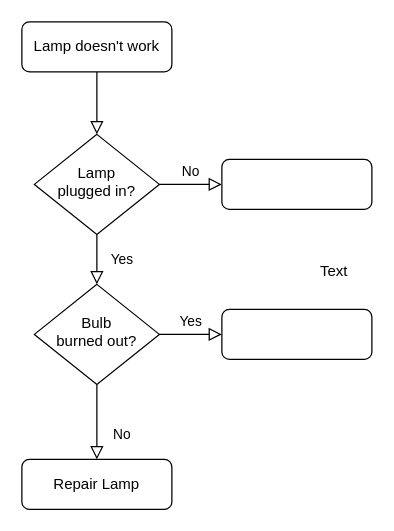
This 394x531 diagram has some shape labels left out. Each missing label, with the box of its shape:
Plug in lamp: (221, 158, 372, 209)
Replace Bulb: (221, 308, 372, 359)
